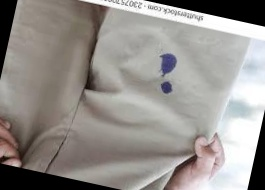ink: (159, 52, 178, 75), (159, 81, 173, 94)
